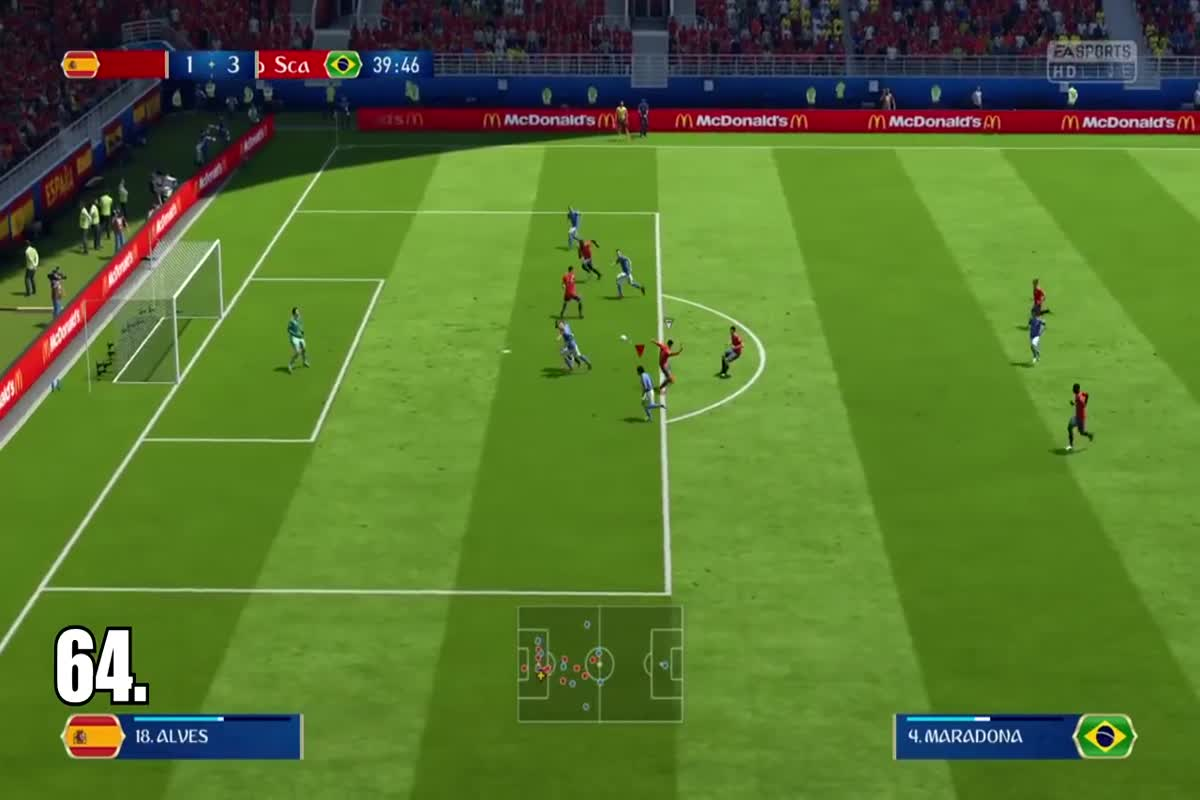ball: (609, 325, 634, 350)
